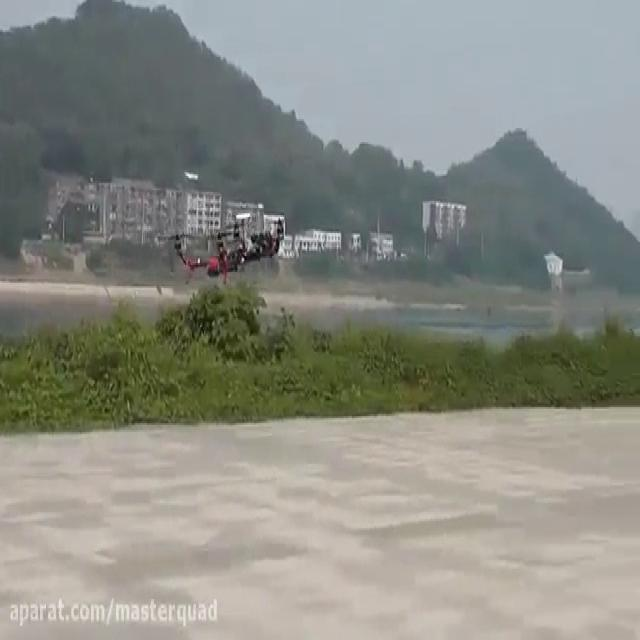drone: (170, 206, 290, 286)
